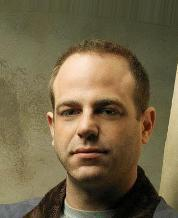face: (54, 95, 126, 162)
